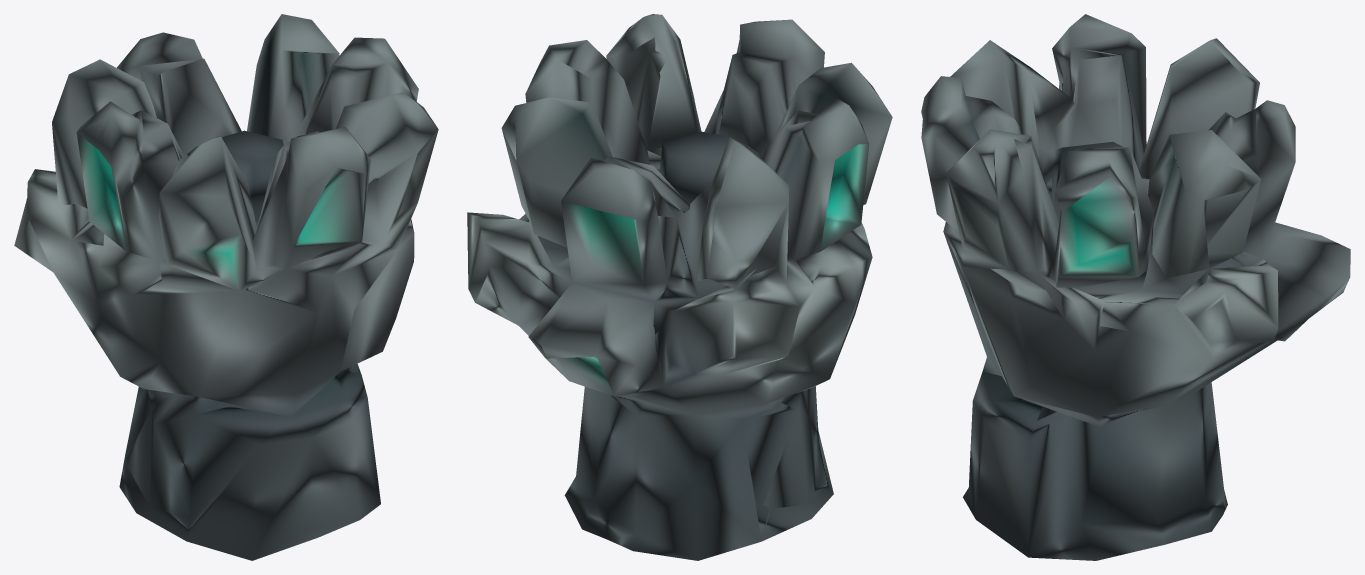
File: gen3d-power-glove-lod1.glb
3 views of the same model, side by side, from view 1: azimuth 30°, elevation 25°; view 2: azimuth 150°, elevation 25°; view 3: azimuth 270°, elevation 25° (orthographic).
Parts seen in each view (by area): view 1: part_0; view 2: part_0; view 3: part_0.
Part boxes in pixels (box(x1,y1,x2,y2)): part_0: box(14, 14, 438, 560); part_0: box(467, 14, 892, 560); part_0: box(921, 14, 1350, 560).
Bounding box in the file's own units: 0.7536 × 0.9488 × 0.8628.
